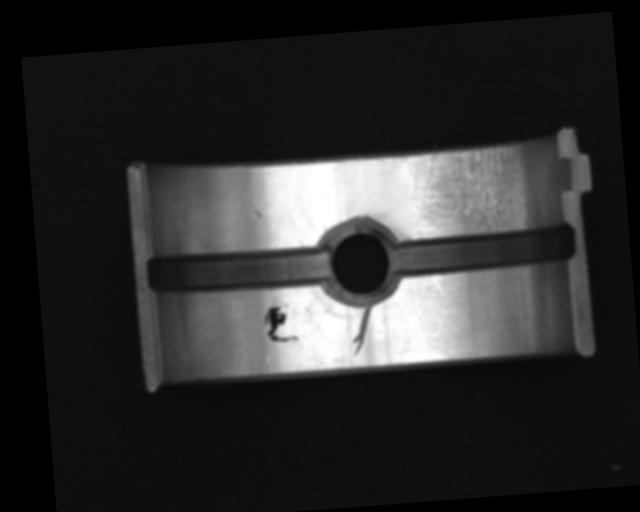blot: (261, 303, 300, 344)
bruise: (250, 209, 264, 221)
gap: (145, 237, 335, 301), (393, 222, 577, 278)
hole: (314, 216, 403, 307)
nick: (347, 303, 375, 357), (427, 273, 445, 295)
scratch: (403, 144, 538, 239)
